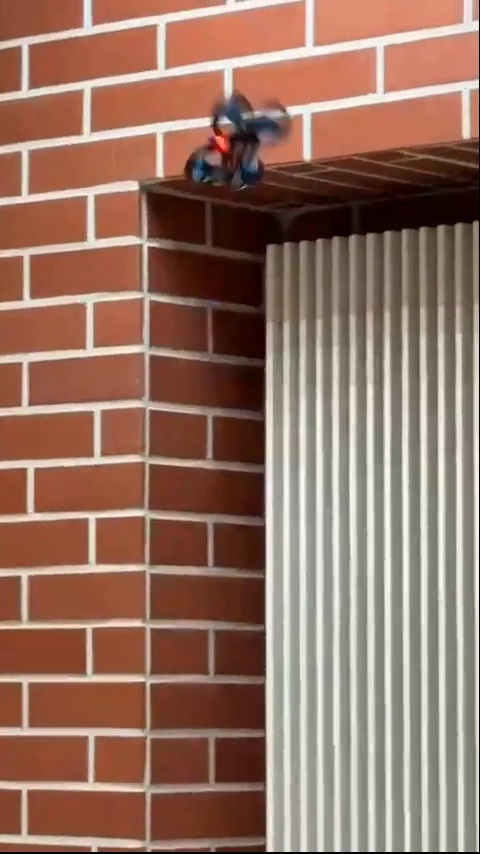drone: (186, 94, 293, 194)
